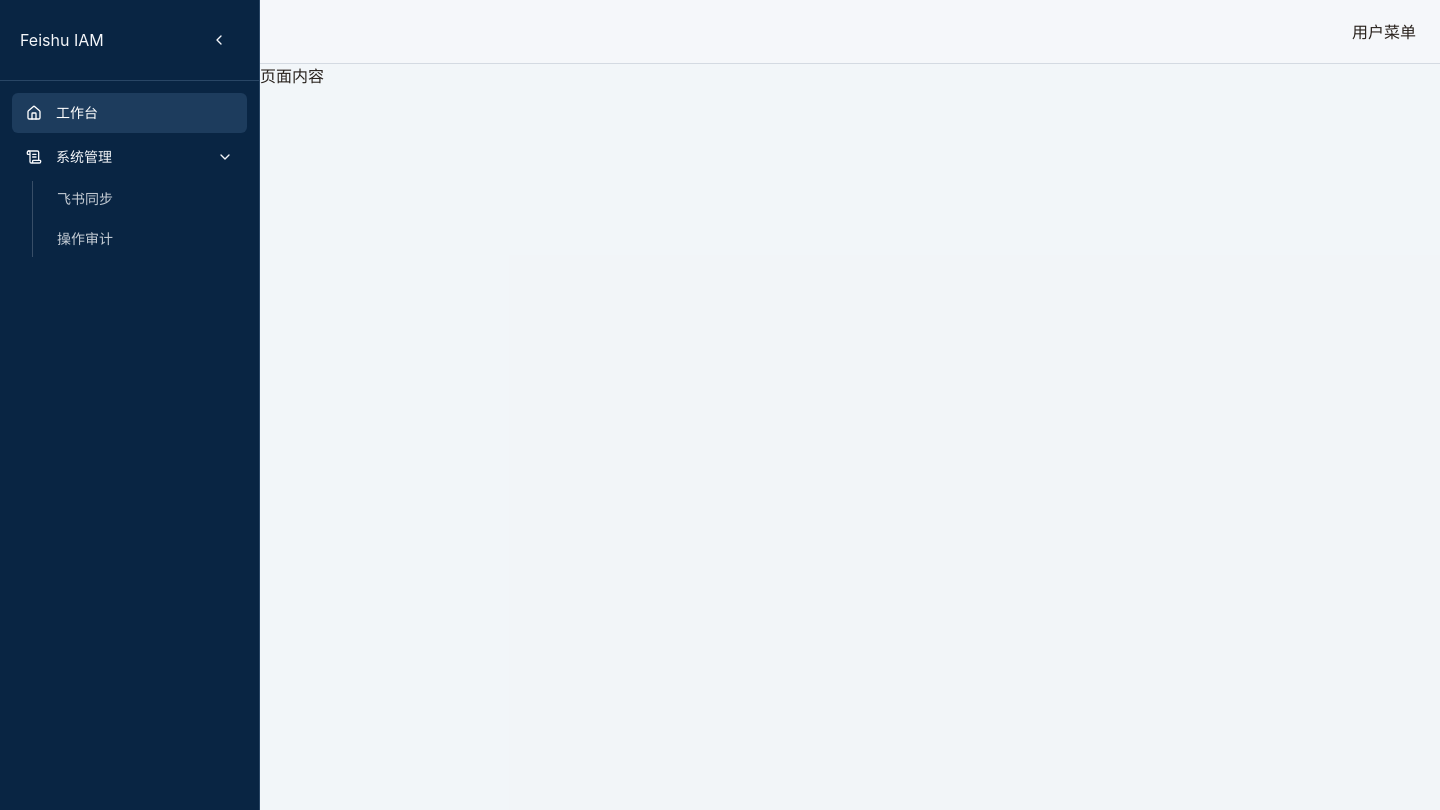
Test case: admin components › AppShell lets inactive grouped navigation expand and collapse with aria state
Expected: the link "飞书同步" is shown, [57,190,113,207]
Click the button with aria-label "收起系统管理子菜单" at (130, 157), box [12,137,247,177]
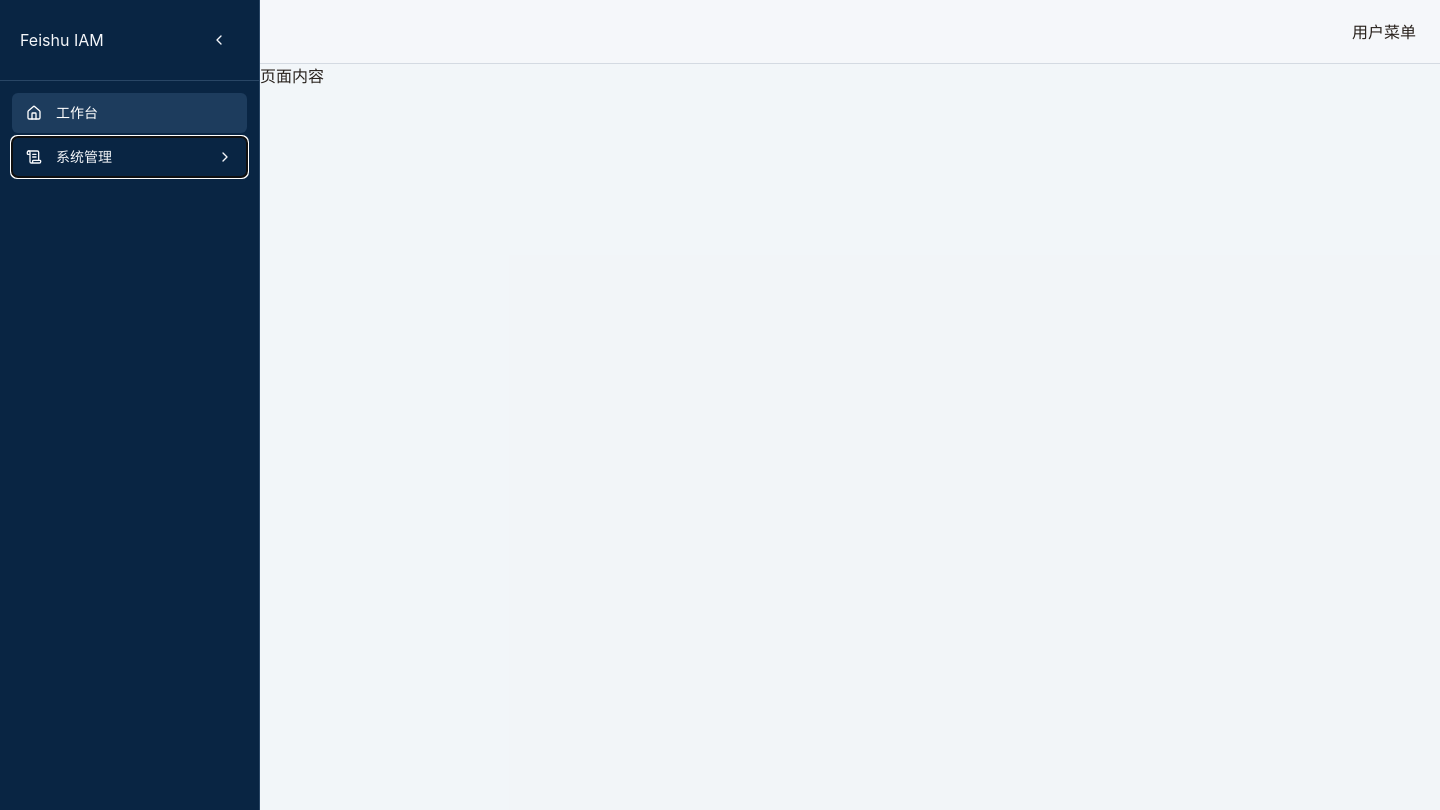
Now the button with aria-label "展开系统管理子菜单" is collapsed
Now the link "飞书同步" is gone
Click the button with aria-label "展开系统管理子菜单" at (130, 157), box [12,137,247,177]
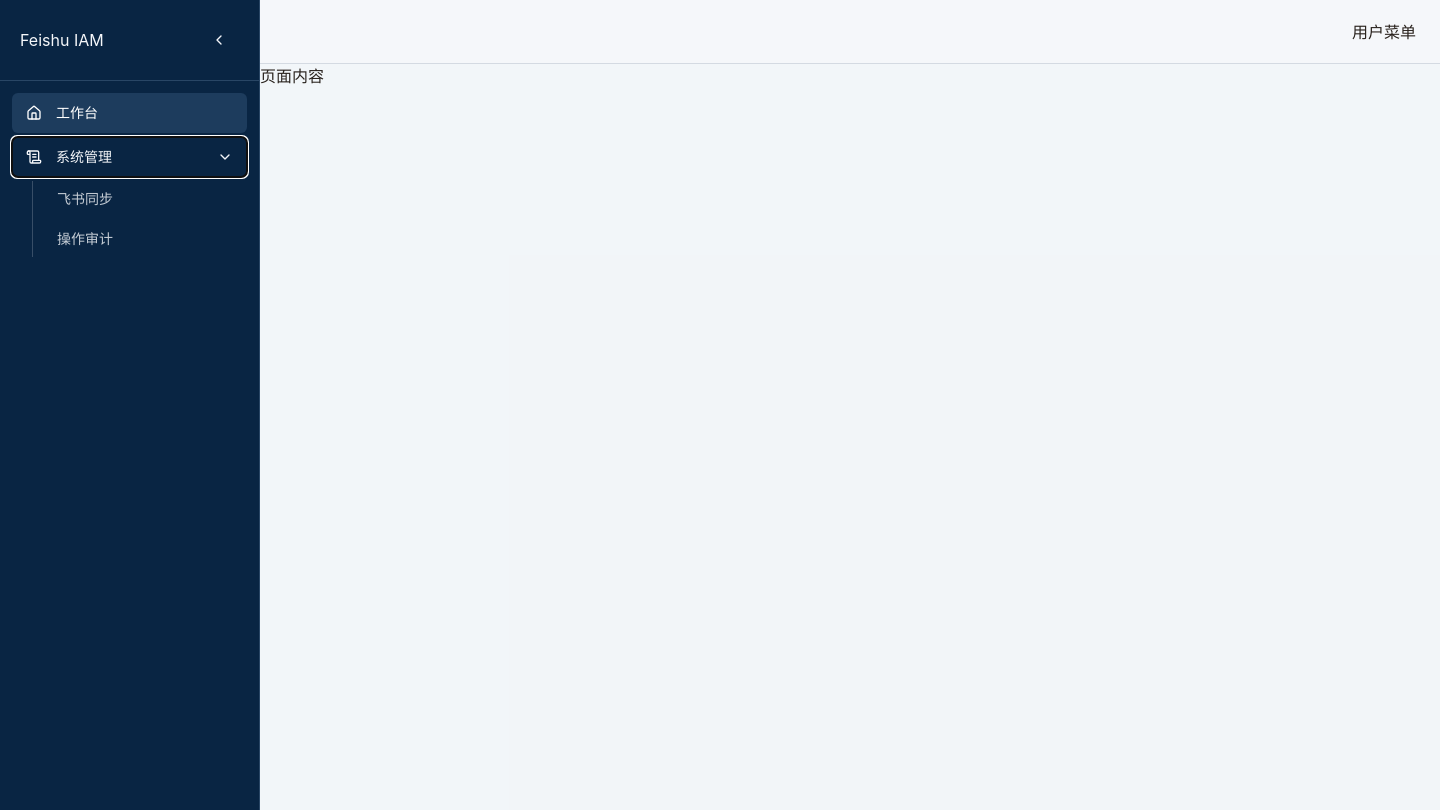
Now the button with aria-label "收起系统管理子菜单" is expanded, box [12,137,247,177]
Now the link "飞书同步" is shown, box [57,190,113,207]
